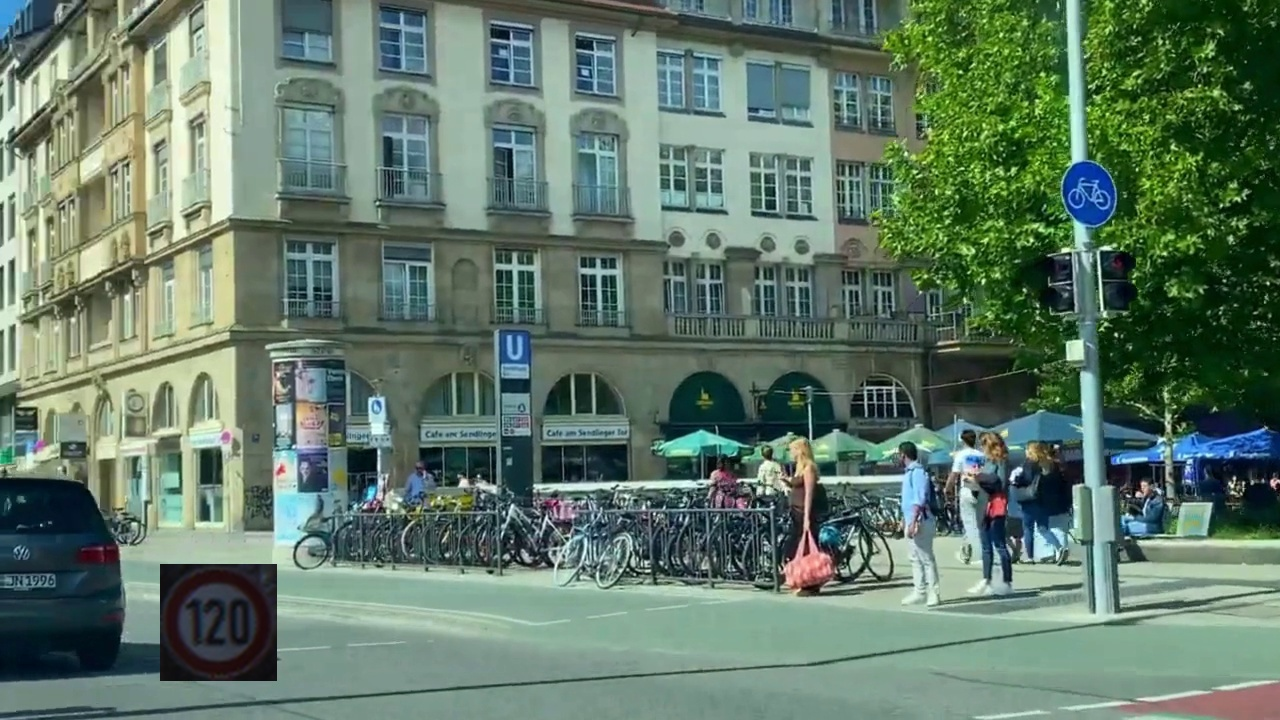Speed 120: (160, 564, 277, 681)
